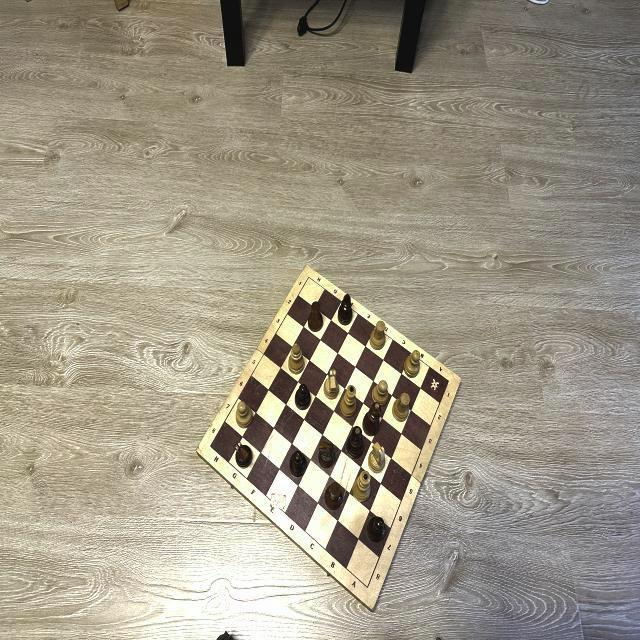chess-table-corners: (364, 584, 371, 592), (208, 442, 213, 450), (447, 378, 450, 384), (308, 275, 310, 279)
